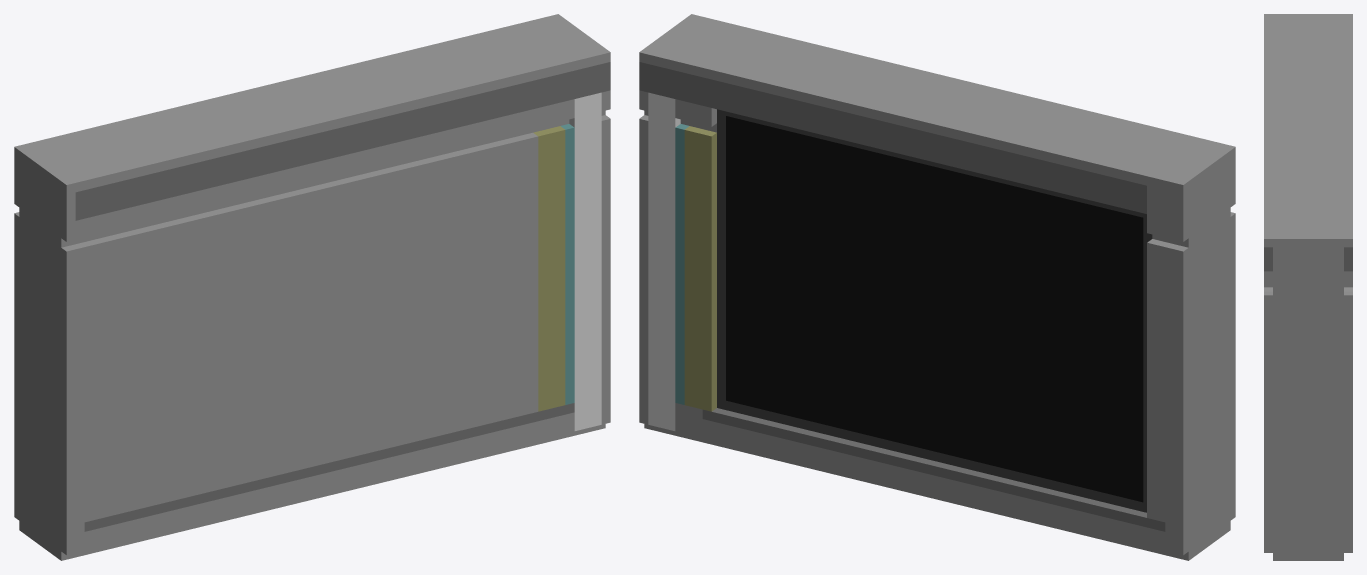
File: Conference Room 5.obj
3 renders of one model, left to right at view 1: azimuth 30°, elevation 25°; view 2: azimuth 150°, elevation 25°; view 3: azimuth 270°, elevation 25°, orthographic. The views are drawn at different scales.
Size of the model in its own units: 60 by 40 by 10.
Materials: 1 (1 with a texture image).
